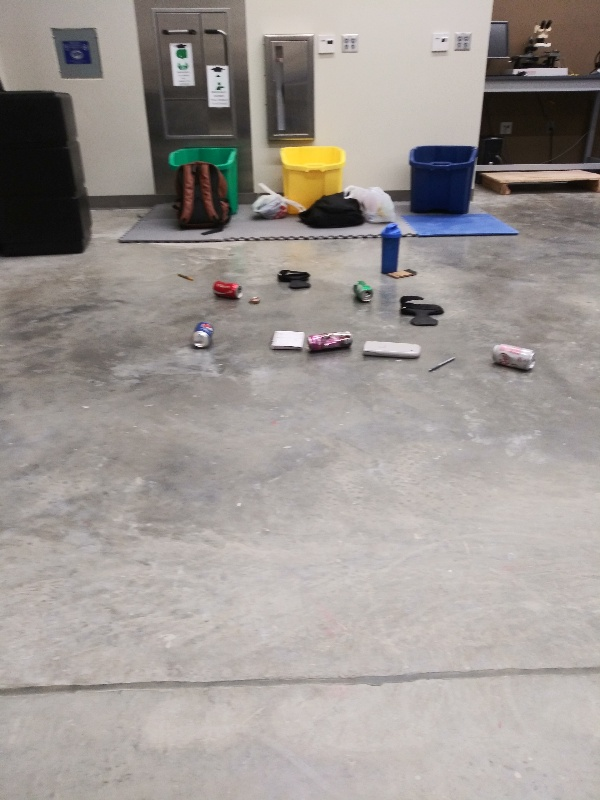can: (487, 341, 539, 372), (305, 328, 357, 356), (188, 317, 216, 351), (207, 279, 245, 301), (350, 277, 376, 304)
